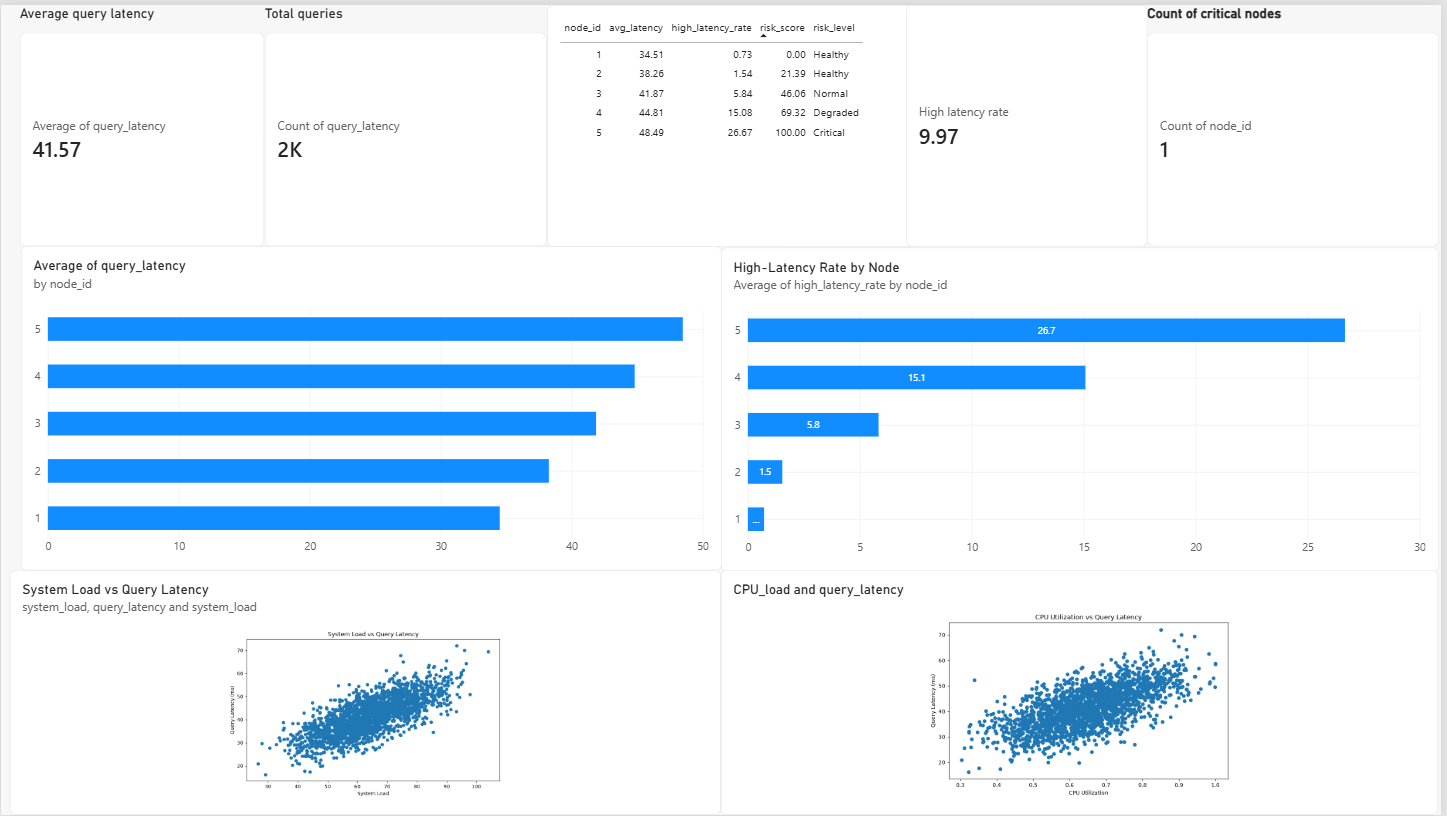

The dashboard page shown, as its layout file describes it:
{"tool":"powerbi","page":{"name":"Page 1","canvas":[1920,1080],"ordinal":0},"visuals":[{"type":"cardVisual","title":"Average query latency","fields":{"Data":["Avg(cloud_query_dataset.query_latency)"]},"box":[25.3,0,326,322],"z":0},{"type":"cardVisual","title":"Total queries","fields":{"Data":["CountNonNull(cloud_query_dataset.query_latency)"]},"box":[352,0,376,322],"z":1000},{"type":"clusteredBarChart","fields":{"Category":["cloud_query_dataset.node_id"],"Y":["Avg(cloud_query_dataset.query_latency)"]},"box":[26,322,934,432],"z":2000},{"type":"clusteredBarChart","title":"High-Latency Rate by Node","fields":{"Category":["dashboard_node_data.node_id"],"Y":["Avg(dashboard_node_data.high_latency_rate)"]},"box":[960,324,956.7,431.7],"z":3000},{"type":"tableEx","fields":{"Values":["dashboard_node_data.node_id","dashboard_node_data.avg_latency","dashboard_node_data.high_latency_rate","dashboard_node_data.risk_score","dashboard_node_data.risk_level"]},"box":[728,0,502,322],"z":4000},{"type":"pythonVisual","title":"System Load vs Query Latency","fields":{"Values":["cloud_query_dataset.system_load","cloud_query_dataset.query_latency","cloud_query_dataset.system_load"]},"box":[12,754,948,326],"z":5000},{"type":"pythonVisual","fields":{"Values":["cloud_query_dataset.CPU_load","cloud_query_dataset.query_latency"]},"box":[960,754,956,326],"z":6000},{"type":"cardVisual","fields":{"Data":["dashboard_node_data.Measure"]},"box":[1206,0,322,322],"z":7000},{"type":"cardVisual","title":"Count of critical nodes","fields":{"Data":["Count(dashboard_node_data.node_id)"]},"box":[1528,0,389,322],"z":7001}]}

Visuals, with their boxes in screenshot pixels (x1, y1, x2, y2), scaled from the page's 1920x1080 canvas onto the 1447x816 screenshot:
"Average query latency" cardVisual: (x1=19, y1=0, x2=265, y2=243)
"Total queries" cardVisual: (x1=265, y1=0, x2=549, y2=243)
clusteredBarChart - cloud_query_dataset.node_id x Avg(cloud_query_dataset.query_latency): (x1=20, y1=243, x2=724, y2=570)
"High-Latency Rate by Node" clusteredBarChart: (x1=724, y1=245, x2=1445, y2=571)
tableEx - dashboard_node_data.node_id x dashboard_node_data.avg_latency: (x1=549, y1=0, x2=927, y2=243)
"System Load vs Query Latency" pythonVisual: (x1=9, y1=570, x2=724, y2=815)
pythonVisual - cloud_query_dataset.CPU_load x cloud_query_dataset.query_latency: (x1=724, y1=570, x2=1444, y2=815)
cardVisual - dashboard_node_data.Measure: (x1=909, y1=0, x2=1152, y2=243)
"Count of critical nodes" cardVisual: (x1=1152, y1=0, x2=1445, y2=243)
